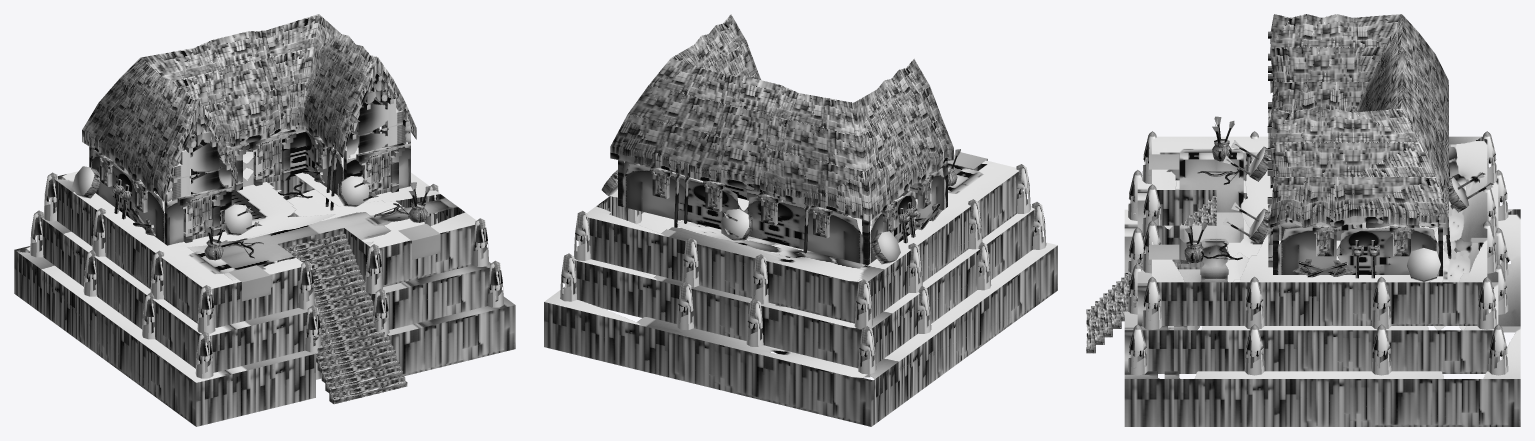
File: fortress.dae
3 renders of one model, left to right at view 1: azimuth 30°, elevation 25°; view 2: azimuth 150°, elevation 25°; view 3: azimuth 270°, elevation 25°, orthographic. The views are drawn at different scales.
Visible parts, largest first — view 1: fortress; view 2: fortress; view 3: fortress.
Boxes of the visible parts, <box> form: fortress: <box>14,14,515,426</box>; fortress: <box>544,14,1057,426</box>; fortress: <box>1086,14,1520,426</box>.
Size of the model in its own units: 25.54 by 27.65 by 19.77.
